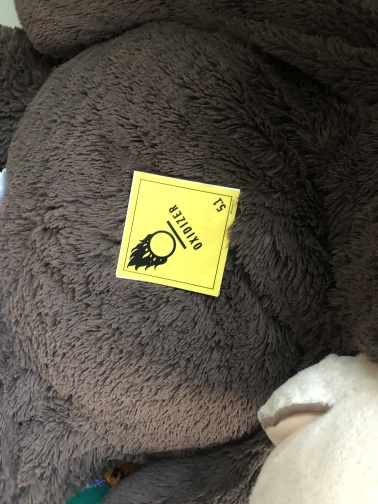Oxidizer: (116, 170, 240, 297)
